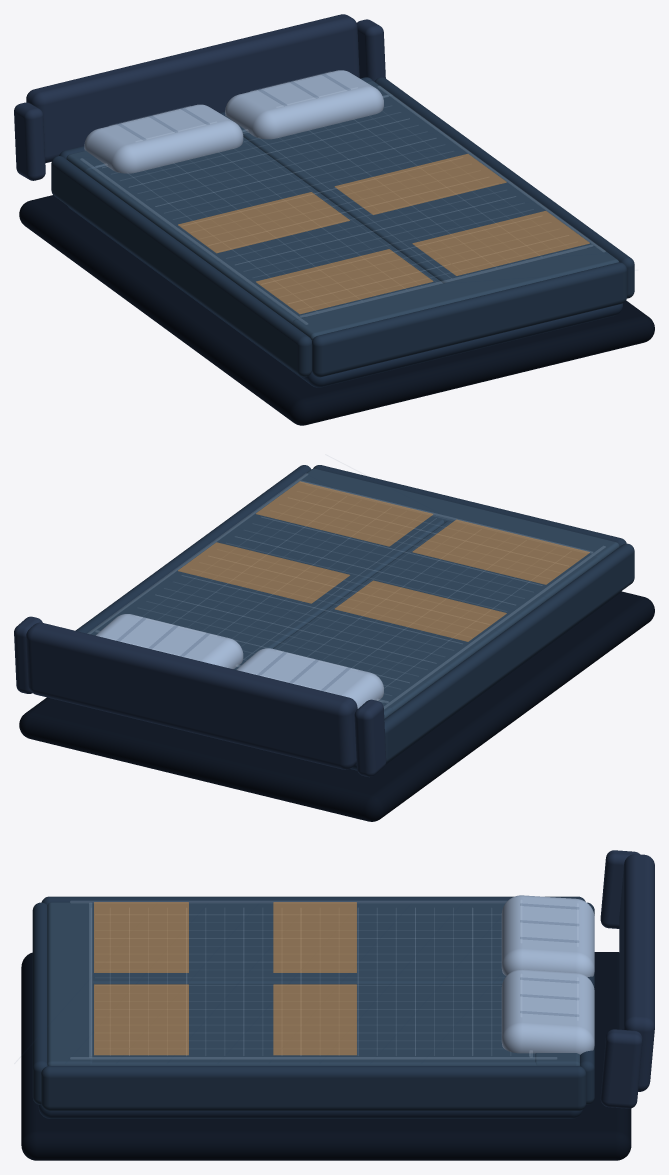
The model's file is smart-mattress-replica.glb.
3 renders of one model, top to bottom at view 1: azimuth 30°, elevation 25°; view 2: azimuth 150°, elevation 25°; view 3: azimuth 270°, elevation 25°, orthographic. The views are drawn at different scales.
Parts seen in each view (by area): view 1: Mattress_Left_Continuous_Top_Fabric, Mattress_Right_Continuous_Top_Fabric, Bed_Frame_Platform, Bed_Frame_Headboard, Mattress_Foot_Fabric_Wall, Mattress_Left_Side_Fabric_Wall, Pillow_Left, Pillow_Right, Mattress_Foot_End_Top_Fabric, Right_Leg_Heating_Surface_Reference_On, Left_Leg_Heating_Surface_Reference_On, Right_Waist_Heating_Surface_Reference_On (+6 smaller); view 2: Bed_Frame_Platform, Mattress_Left_Continuous_Top_Fabric, Mattress_Right_Continuous_Top_Fabric, Bed_Frame_Headboard, Mattress_Left_Side_Fabric_Wall, Mattress_Foot_End_Top_Fabric, Right_Leg_Heating_Surface_Reference_On, Left_Leg_Heating_Surface_Reference_On, Left_Waist_Heating_Surface_Reference_On, Right_Waist_Heating_Surface_Reference_On, Pillow_Left, Pillow_Right (+4 smaller); view 3: Mattress_Right_Continuous_Top_Fabric, Mattress_Left_Continuous_Top_Fabric, Bed_Frame_Platform, Mattress_Right_Side_Fabric_Wall, Mattress_Foot_End_Top_Fabric, Pillow_Right, Pillow_Left, Bed_Frame_Headboard, Left_Leg_Heating_Surface_Reference_On, Right_Leg_Heating_Surface_Reference_On, Left_Waist_Heating_Surface_Reference_On, Right_Waist_Heating_Surface_Reference_On (+10 smaller).
Part boxes in pixels (x1,y1,x2,y2): Mattress_Left_Continuous_Top_Fabric: (79,137,442,324); Mattress_Right_Continuous_Top_Fabric: (242,95,597,283); Bed_Frame_Platform: (19,195,654,425); Bed_Frame_Headboard: (26,14,359,163); Mattress_Foot_Fabric_Wall: (312,262,627,377); Mattress_Left_Side_Fabric_Wall: (51,156,311,377); Pillow_Left: (84,104,243,173); Pillow_Right: (225,70,383,139); Mattress_Foot_End_Top_Fabric: (292,246,618,340); Right_Leg_Heating_Surface_Reference_On: (412,211,589,275); Left_Leg_Heating_Surface_Reference_On: (256,249,432,313); Right_Waist_Heating_Surface_Reference_On: (335,154,506,214); Bed_Frame_Platform: (19,591,654,821); Mattress_Left_Continuous_Top_Fabric: (273,521,607,716); Mattress_Right_Continuous_Top_Fabric: (88,483,444,669); Bed_Frame_Headboard: (26,622,357,769); Mattress_Left_Side_Fabric_Wall: (384,543,634,763); Mattress_Foot_End_Top_Fabric: (293,468,619,559); Right_Leg_Heating_Surface_Reference_On: (256,481,432,546); Left_Leg_Heating_Surface_Reference_On: (413,520,589,584); Left_Waist_Heating_Surface_Reference_On: (335,580,506,641); Right_Waist_Heating_Surface_Reference_On: (178,542,349,603); Pillow_Left: (236,648,383,708); Pillow_Right: (96,614,243,668); Mattress_Right_Continuous_Top_Fabric: (90,984,536,1065); Mattress_Left_Continuous_Top_Fabric: (92,903,506,983); Bed_Frame_Platform: (21,952,631,1160); Mattress_Right_Side_Fabric_Wall: (41,1066,586,1110); Mattress_Foot_End_Top_Fabric: (47,902,93,1065); Pillow_Right: (501,969,594,1054); Pillow_Left: (501,895,594,976); Bed_Frame_Headboard: (619,854,654,1091); Left_Leg_Heating_Surface_Reference_On: (94,902,188,972); Right_Leg_Heating_Surface_Reference_On: (94,984,188,1054); Left_Waist_Heating_Surface_Reference_On: (273,902,356,972); Right_Waist_Heating_Surface_Reference_On: (273,984,356,1054).
Size of what is drawn, in the model's own units: 3.2 by 1.05 by 4.54.
